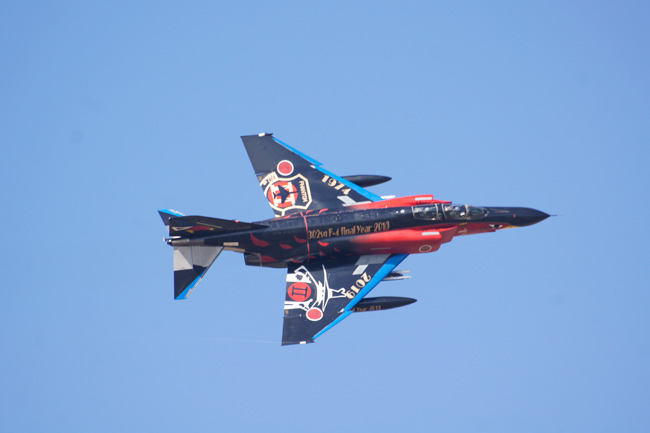F4: (156, 132, 562, 347)
